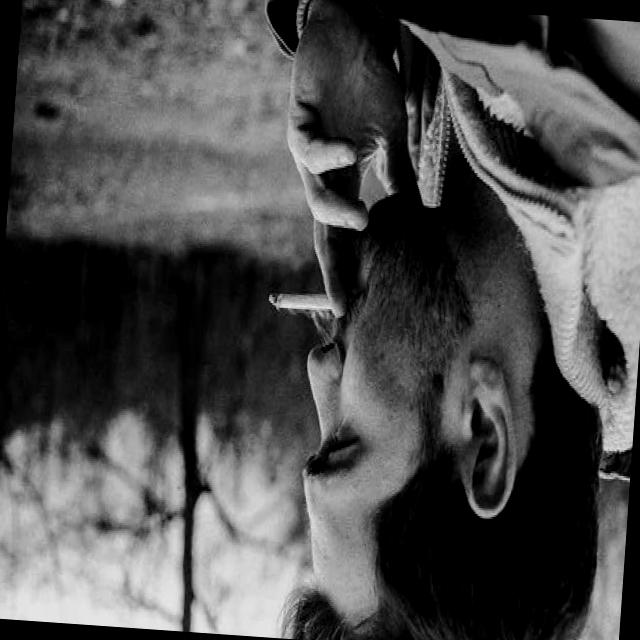smoke: (264, 280, 344, 322)
